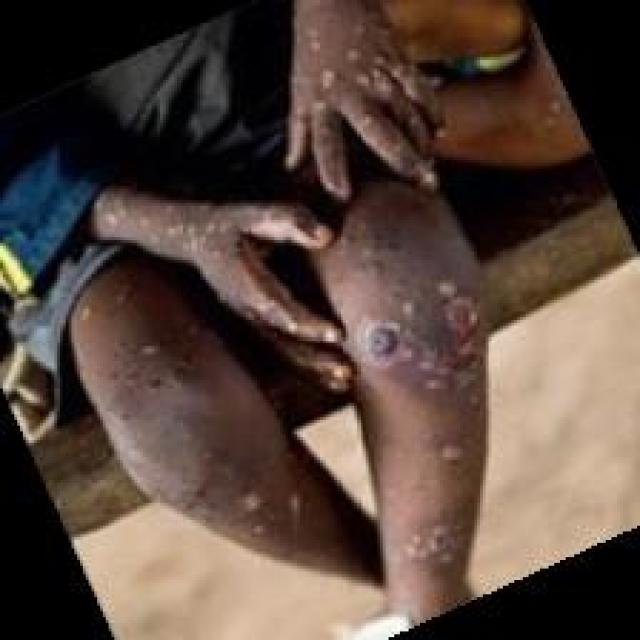monkeypox: (15, 7, 499, 640)
